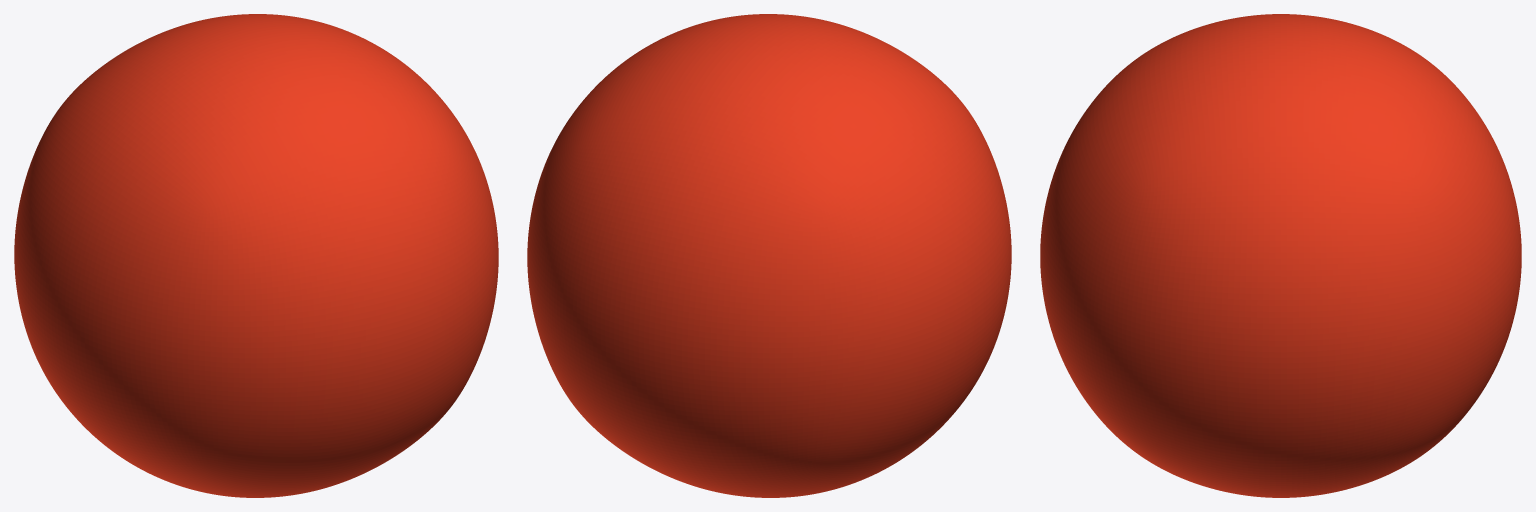
The model's file is Red.fbx.
3 views of the same model, side by side, from view 1: azimuth 30°, elevation 25°; view 2: azimuth 150°, elevation 25°; view 3: azimuth 270°, elevation 25° (orthographic).
Visible parts, largest first — view 1: red ball; view 2: red ball; view 3: red ball.
Boxes of the visible parts, x1=… form: red ball: x1=14, y1=14, x2=498, y2=497; red ball: x1=527, y1=14, x2=1011, y2=497; red ball: x1=1040, y1=14, x2=1521, y2=497.
Size of the model in its own units: 70.16 by 70.16 by 70.16.
